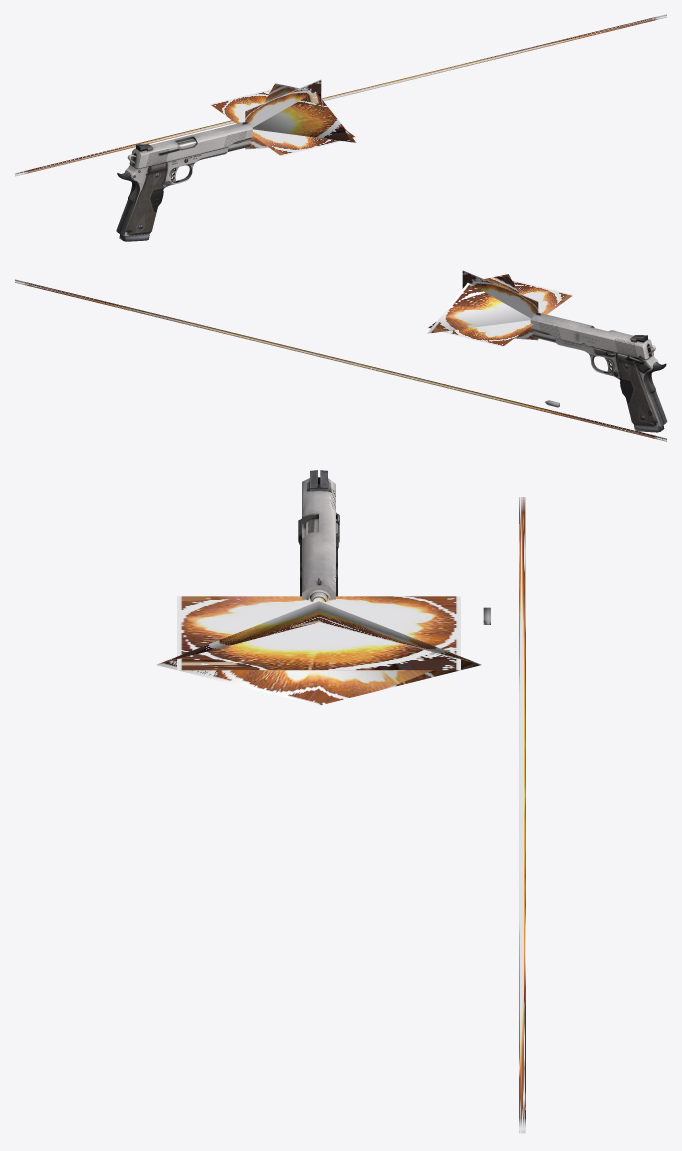
File: Handgun_obj.obj
3 renders of one model, top to bottom at view 1: azimuth 30°, elevation 25°; view 2: azimuth 150°, elevation 25°; view 3: azimuth 270°, elevation 25°, orthographic. The views are drawn at different scales.
Parts seen in each view (by area): view 1: muzzle_fire_Plane.002, Gun_Cube.001, Cube.005_Cube.000, bullet_Cube.005; view 2: muzzle_fire_Plane.002, Gun_Cube.001, Cube.005_Cube.000, bullet_Cube.005; view 3: muzzle_fire_Plane.002, bullet_Cube.005, Cube.005_Cube.000.
Part boxes in pixels (x1,y1,x2,y2): muzzle_fire_Plane.002: (210,79,356,155); Gun_Cube.001: (116,138,227,236); Cube.005_Cube.000: (129,122,252,169); bullet_Cube.005: (14,14,667,176); muzzle_fire_Plane.002: (427,270,573,346); Gun_Cube.001: (555,338,667,427); Cube.005_Cube.000: (530,312,653,359); bullet_Cube.005: (14,279,667,441); muzzle_fire_Plane.002: (156,596,481,705); bullet_Cube.005: (519,497,525,1133); Cube.005_Cube.000: (302,470,335,600).
Size of the model in its own units: 9.03 by 1.54 by 2.22.
4 materials, 3 textured.
